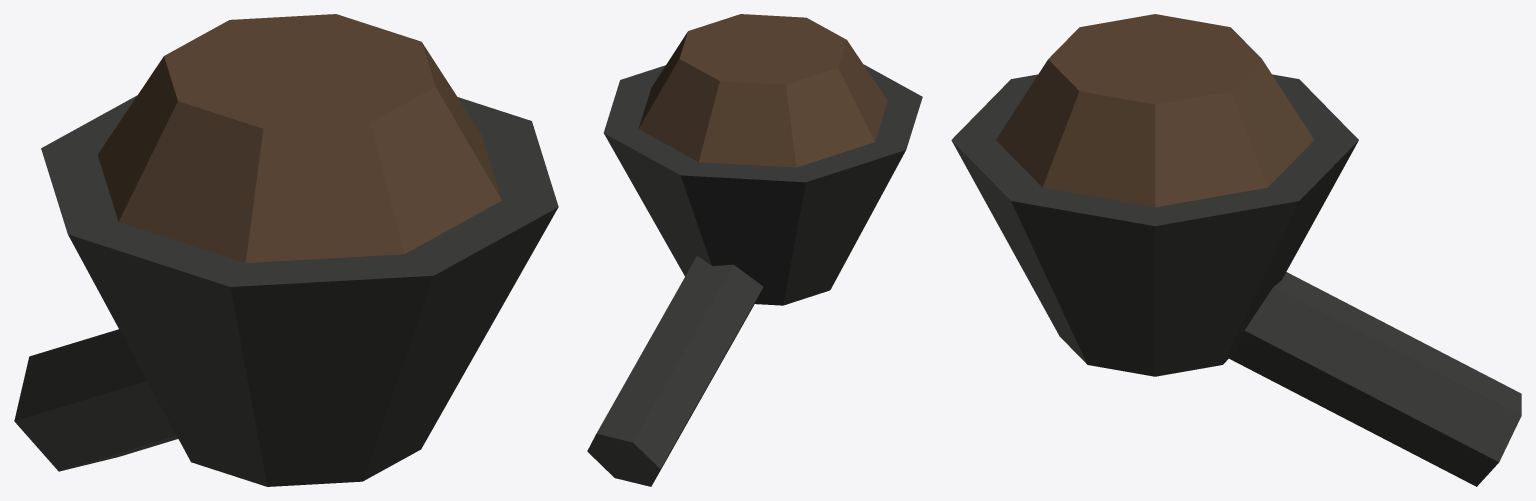
Rendered from wall_cresset.glb.
3 renders of one model, left to right at view 1: azimuth 30°, elevation 25°; view 2: azimuth 150°, elevation 25°; view 3: azimuth 270°, elevation 25°, orthographic. The views are drawn at different scales.
Parts seen in each view (by area): view 1: Wall cresset; view 2: Wall cresset; view 3: Wall cresset.
Boxes of the visible parts, x1,y1,x2,y2 form: Wall cresset: [14, 14, 558, 486]; Wall cresset: [587, 14, 922, 486]; Wall cresset: [951, 14, 1521, 486].
Size of the model in its own units: 0.32 by 0.3608 by 0.4476.
